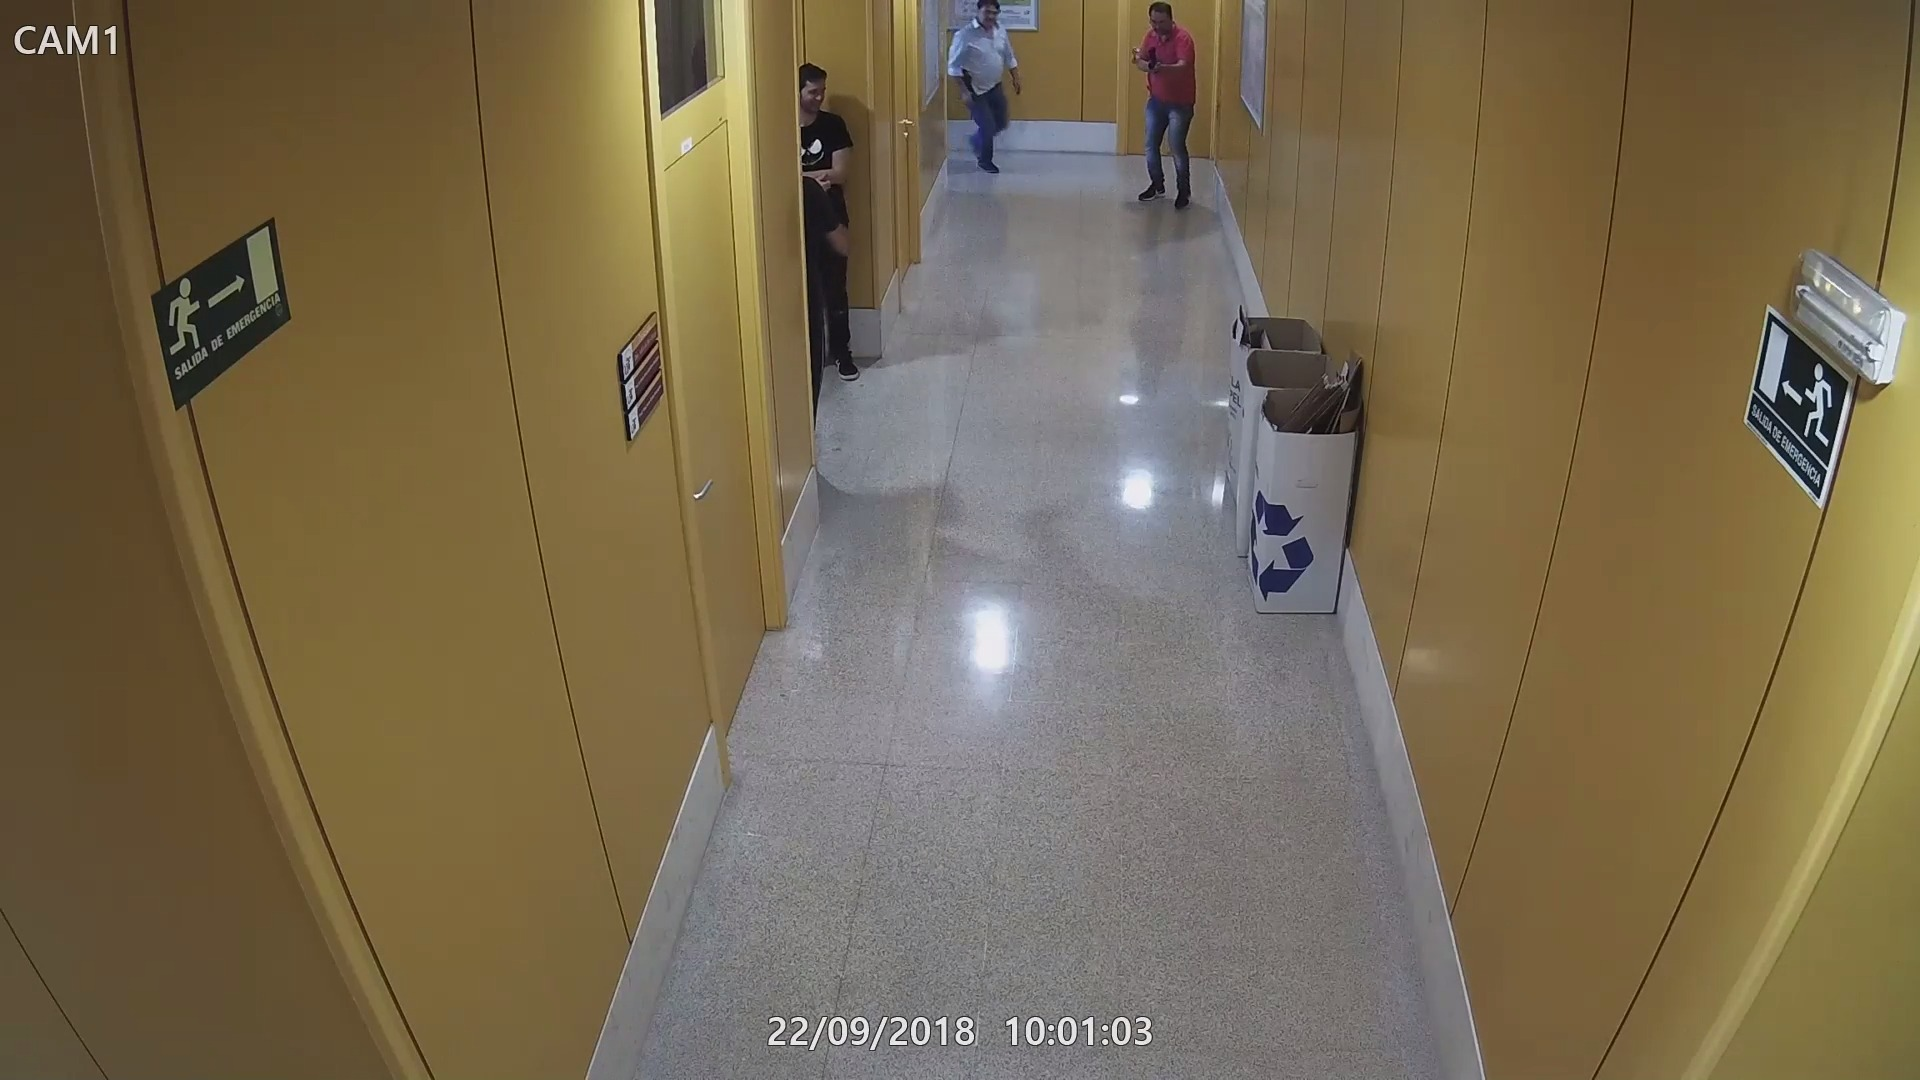Handgun: (956, 69, 982, 94)
Short_rifle: (1139, 46, 1164, 74)
